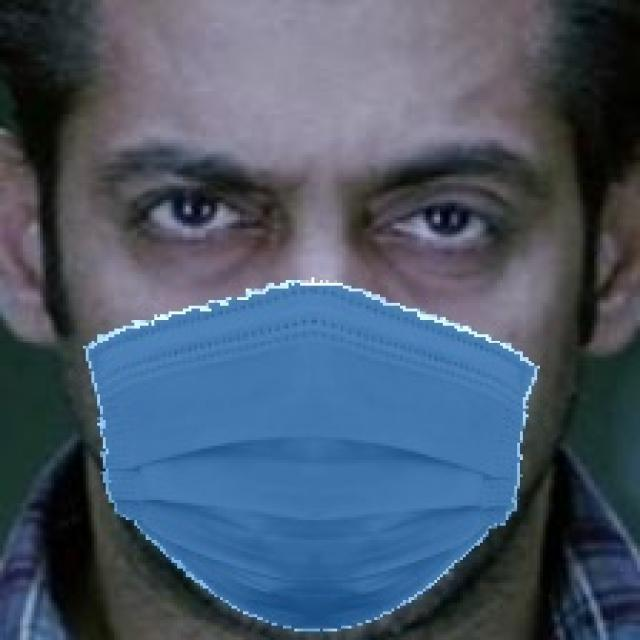mask: (73, 270, 551, 632)
